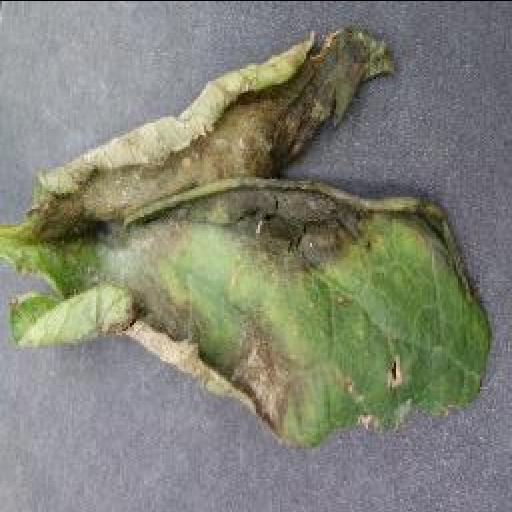disease_tomato: (10, 22, 500, 442)
